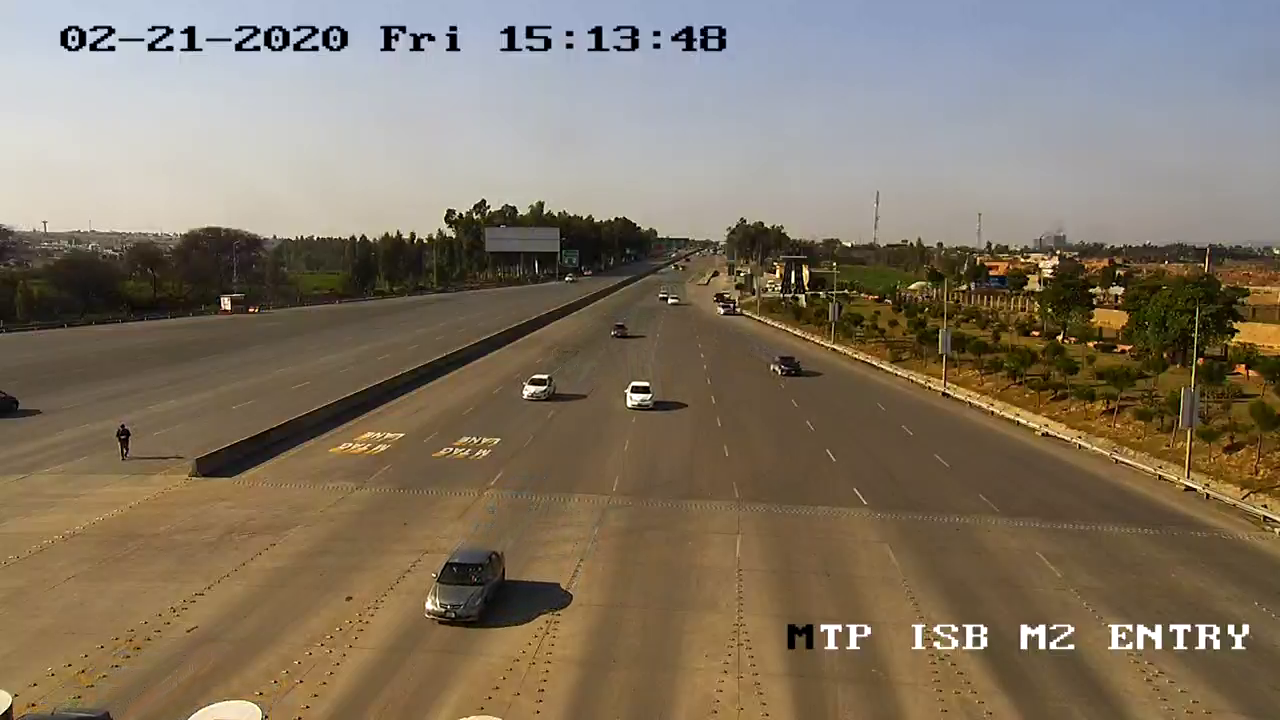f1: (419, 535, 518, 635)
